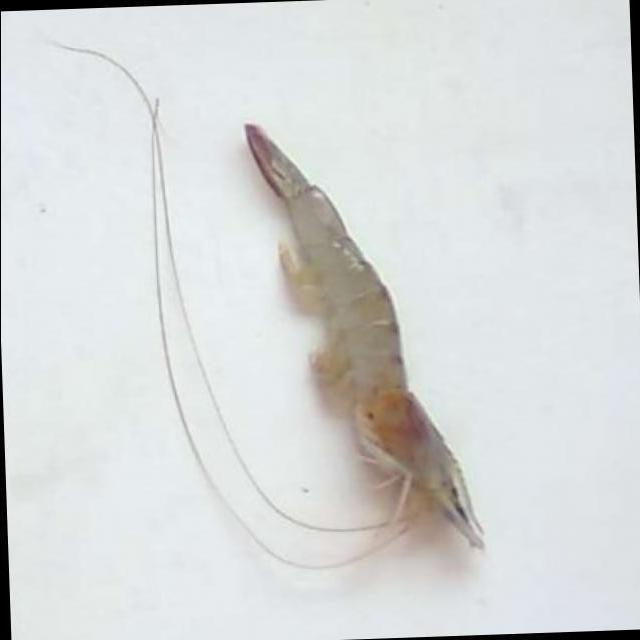shrimp: (246, 124, 483, 550)
